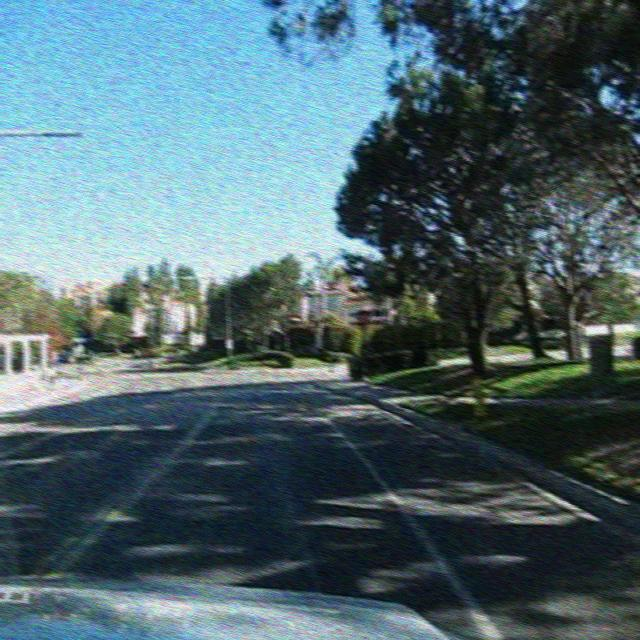stop_sign: (354, 308, 371, 329)
